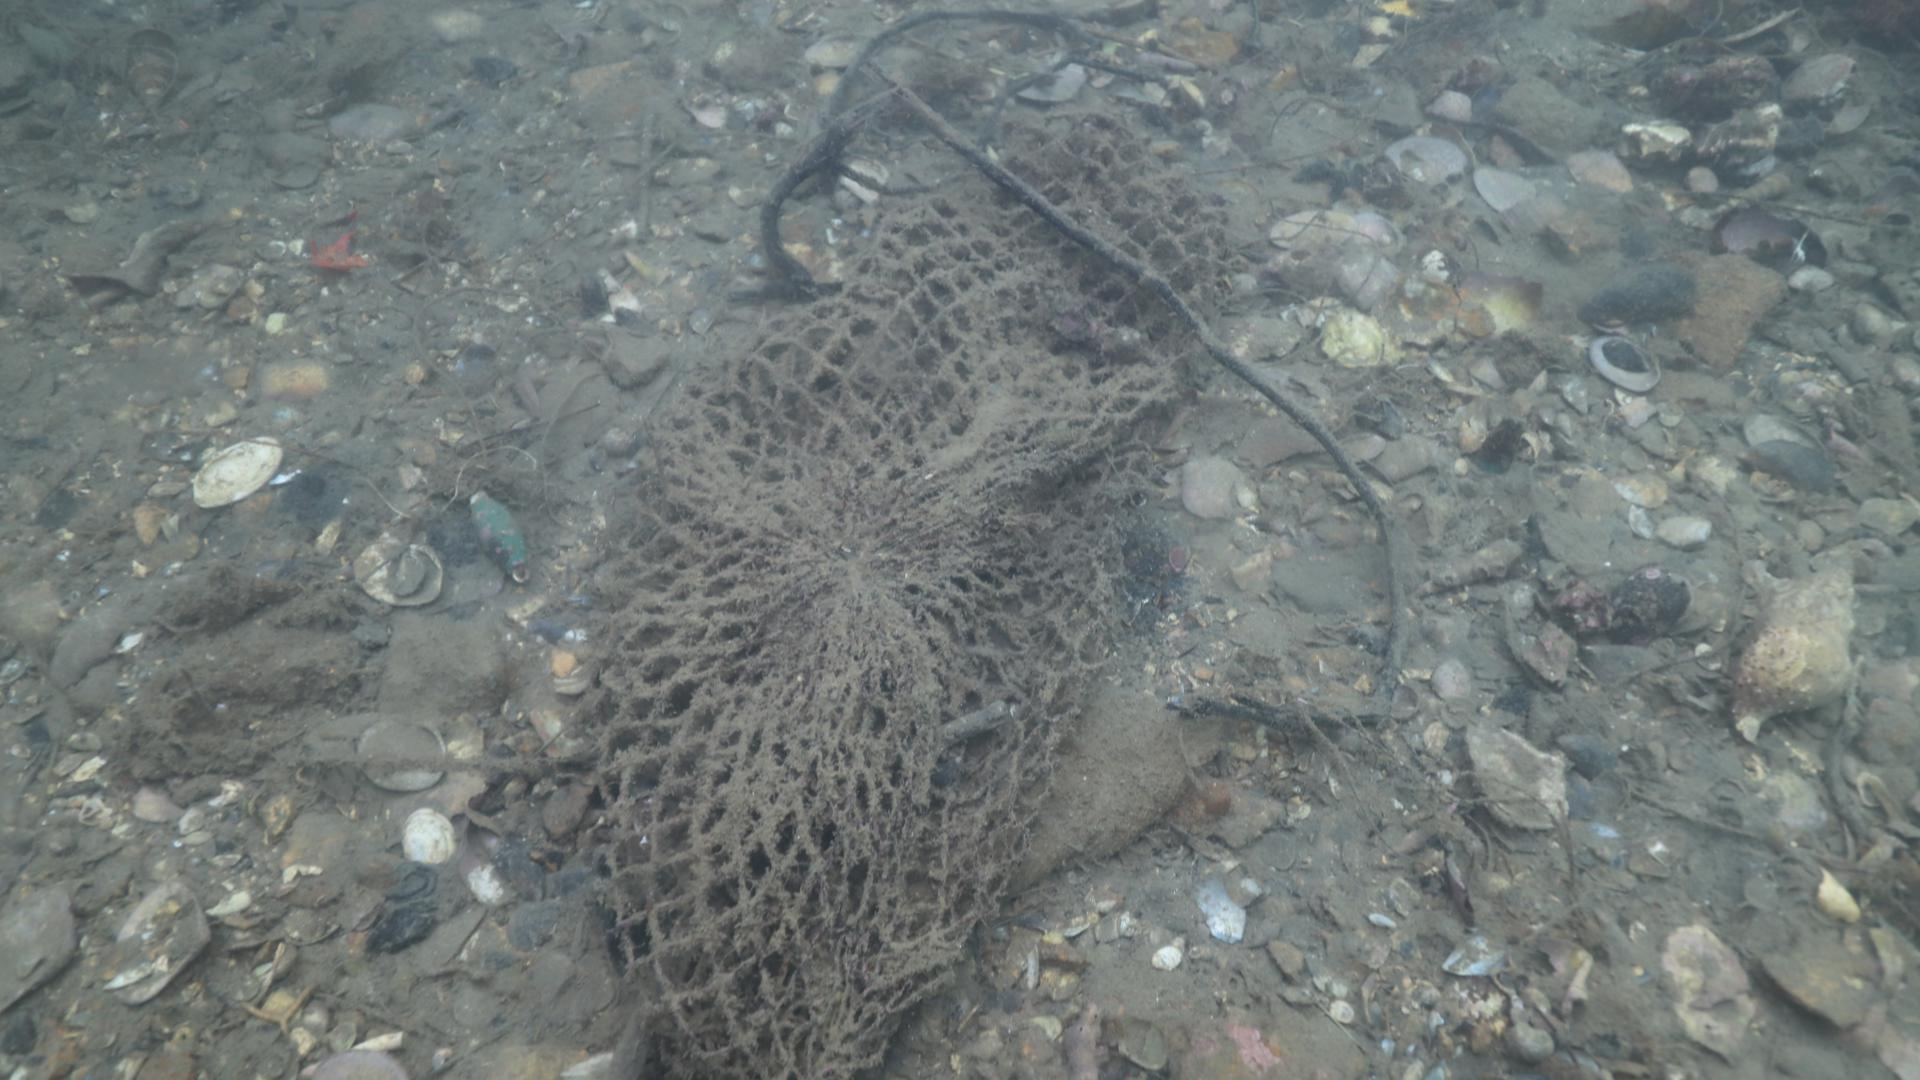fish net: (595, 109, 1233, 1080)
